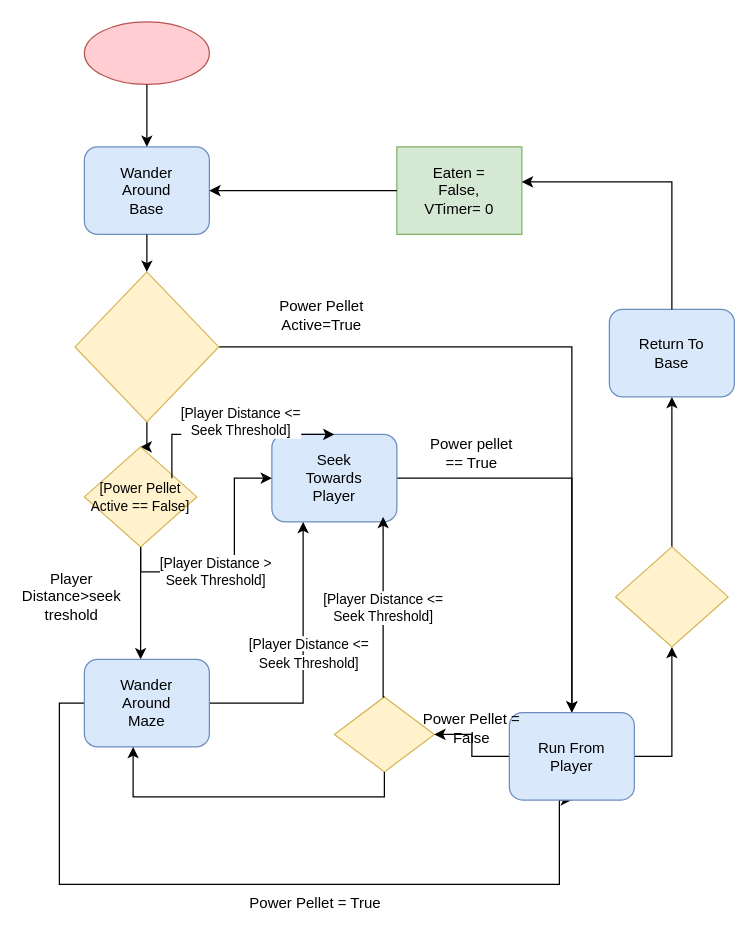
This 756x944 diagram has some shape labels left out. Each missing label, with the box of its shape:
[Timer >= Spawn Time]: (74, 271, 219, 422)
Eaten ==True: (614, 546, 728, 647)
Game Start: (83, 21, 209, 84)
